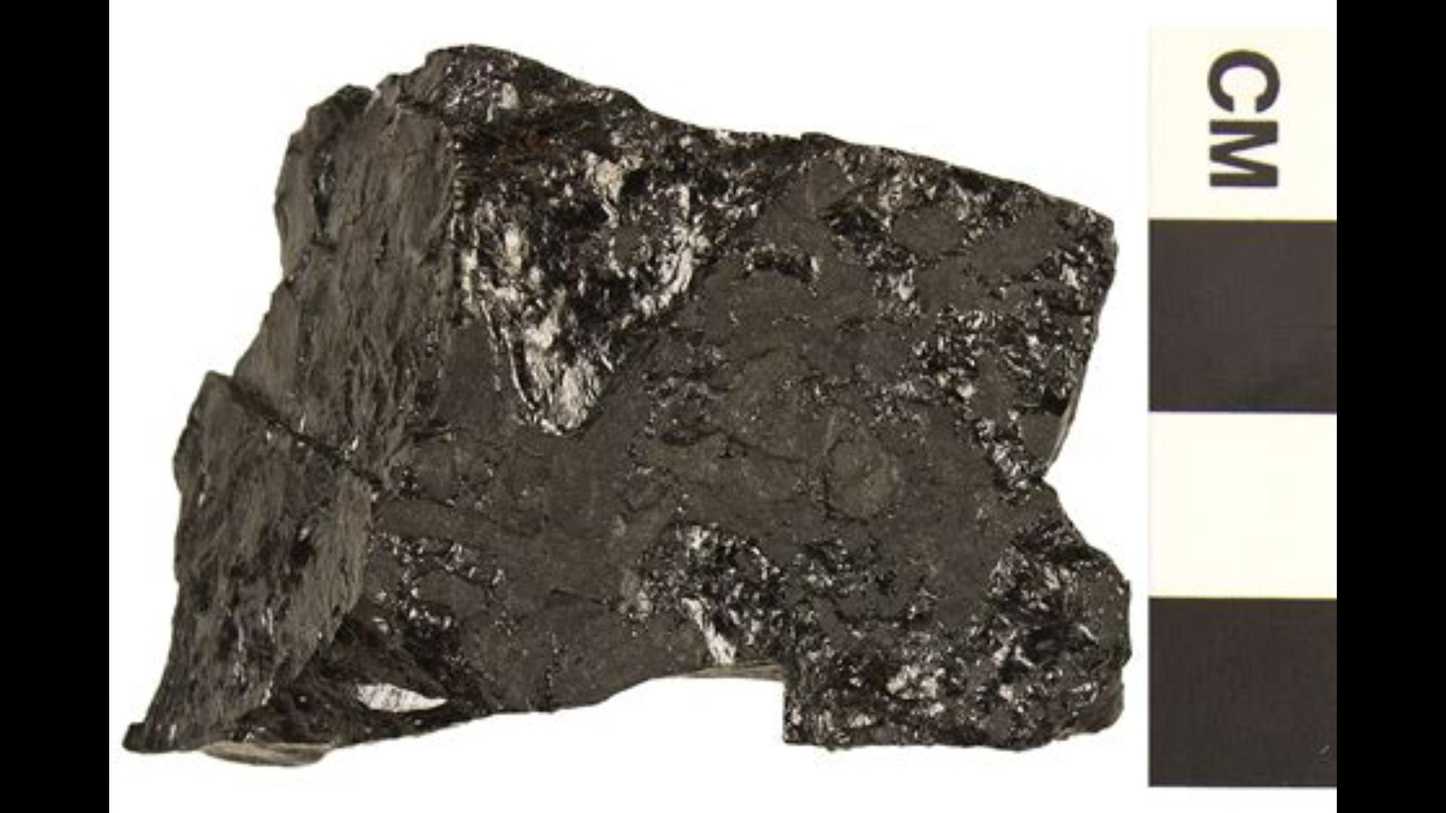rock: (130, 47, 1125, 746)
